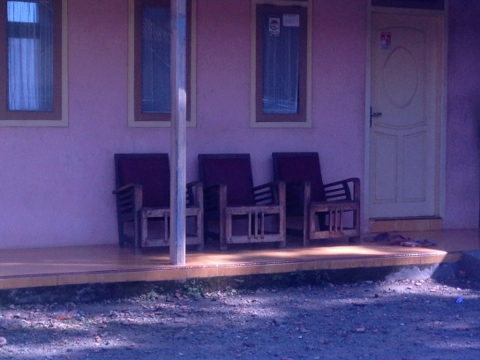kursi: (112, 153, 205, 254), (199, 152, 285, 251), (272, 151, 361, 246)
